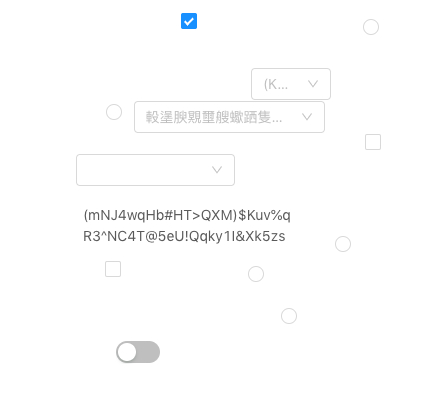Checkbox: (365, 131, 381, 152), (181, 10, 197, 31), (105, 258, 121, 279)
Radio: (106, 101, 122, 121), (363, 16, 379, 36), (248, 263, 264, 283), (335, 233, 351, 253), (281, 305, 297, 325)
Select: (134, 101, 325, 133), (76, 154, 235, 186), (251, 68, 331, 100)
Switch: (116, 340, 160, 364)
Text: (83, 204, 293, 249)
